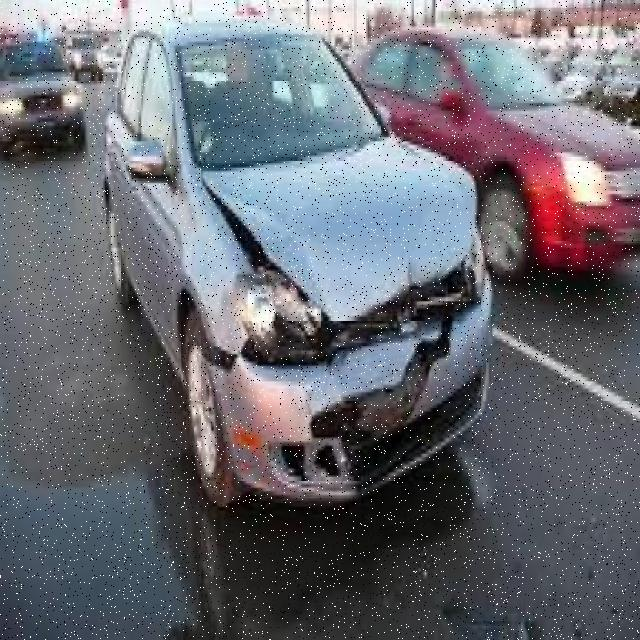damage: (199, 181, 482, 489)
